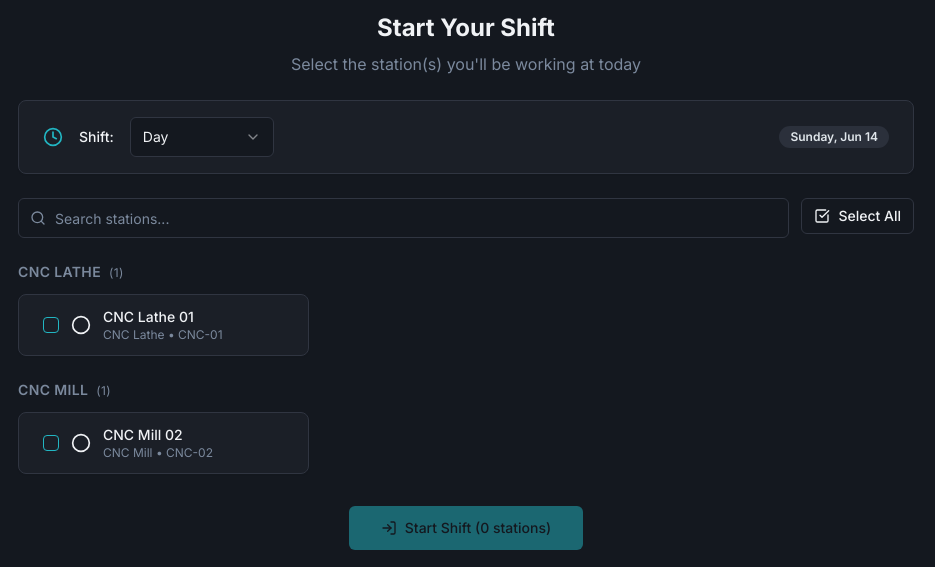
Test: StationCheckIn › clear all button deselects all stations
The image size is (935, 567).
Select all first
Click the button "Select All".
click(858, 216)  # box [801,198,914,234]
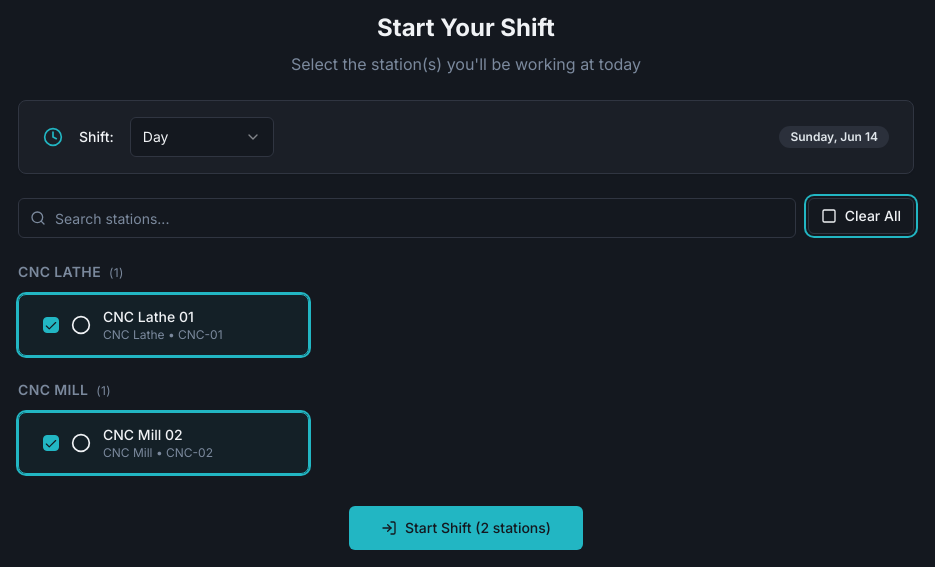
Now it should show "Clear All"
Click the button "Clear All".
click(861, 216)  # box [808,198,914,234]
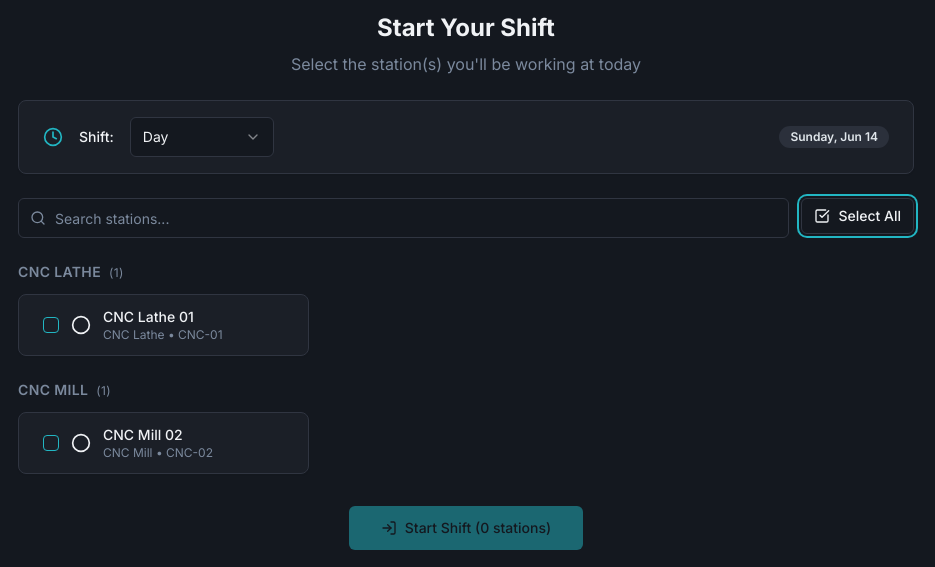
Expected: the checkbox "CNC Lathe 01" is not checked, [18,294,309,356]
Expected: the checkbox "CNC Mill 02" is not checked, [18,412,309,474]
